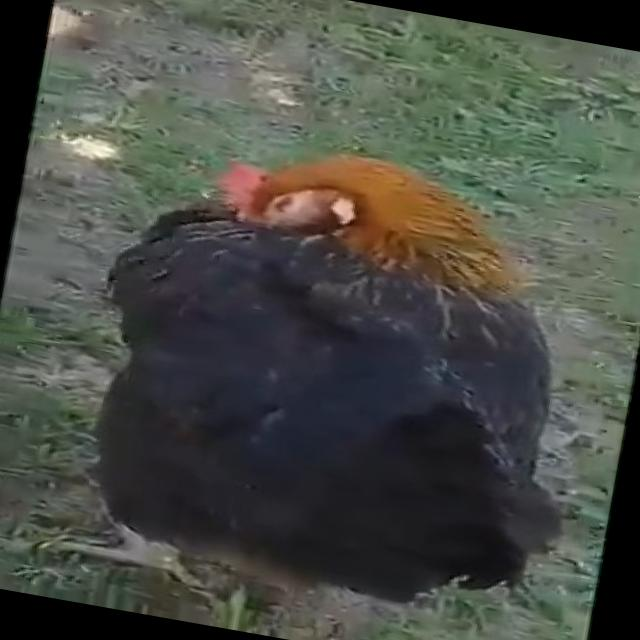self preening: (64, 112, 619, 640)
